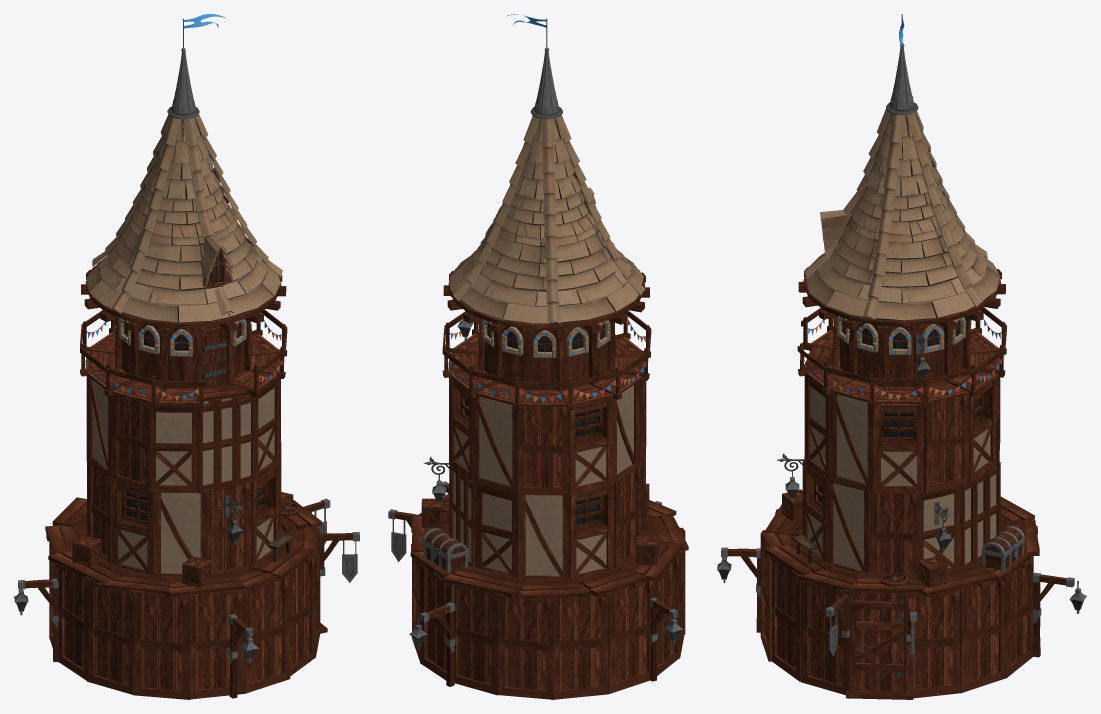
File: Building_6.fbx
3 views of the same model, side by side, from view 1: azimuth 30°, elevation 25°; view 2: azimuth 150°, elevation 25°; view 3: azimuth 270°, elevation 25° (orthographic).
Visible parts, largest first — view 1: Building_6_LOD0; view 2: Building_6_LOD0; view 3: Building_6_LOD0.
Part boxes in pixels (x1,y1,x2,y2): Building_6_LOD0: [14, 14, 359, 699]; Building_6_LOD0: [388, 14, 688, 699]; Building_6_LOD0: [717, 14, 1086, 699].
Size of what is drawn, in the model's own units: 1626 by 3185 by 1701.
